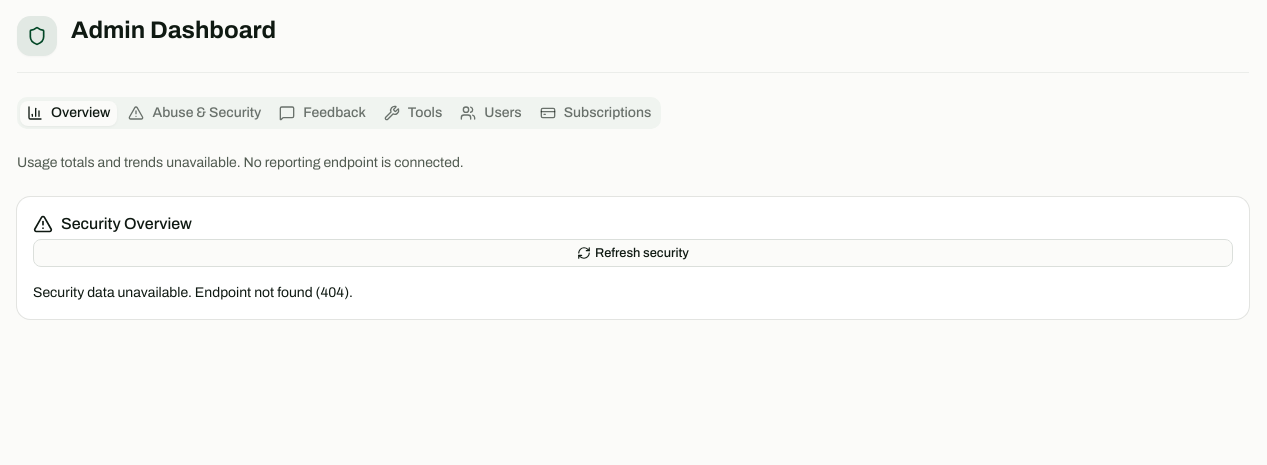
Test: truthful admin dashboard › shows HTTP 404 failures instead of zero metrics or empty feedback
The width and height of the screenshot is (1267, 465).
Check: the message shows "Endpoint not found", box [33, 285, 353, 300]
Click the tab "Abuse & Security": (195, 113) [122, 100, 268, 126]
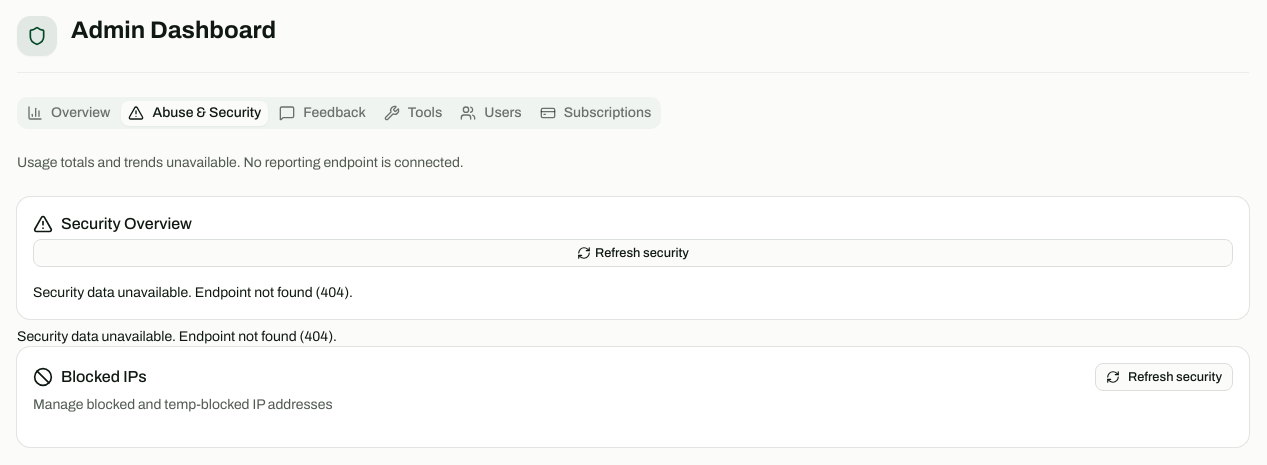
Click the tab "Feedback": (322, 113) [272, 100, 373, 126]
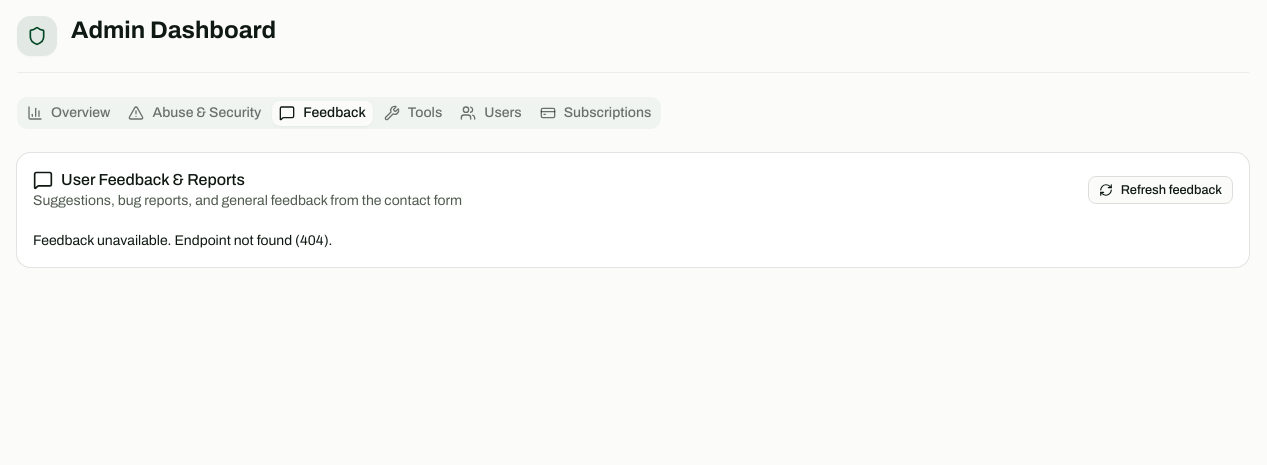
Check: the message shows "Endpoint not found", box [33, 233, 332, 248]
